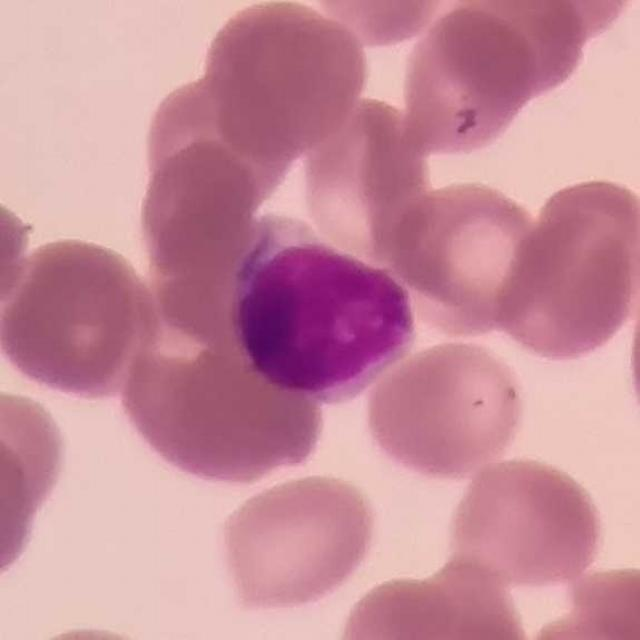Lymphocyte: (225, 208, 421, 401)
RBC: (116, 293, 333, 491), (493, 170, 640, 366), (198, 0, 373, 157), (386, 174, 552, 337), (0, 231, 155, 402), (210, 468, 383, 616), (360, 334, 532, 482), (294, 88, 437, 255), (440, 451, 610, 589), (395, 2, 538, 163), (143, 76, 296, 205), (131, 136, 265, 282), (425, 0, 597, 109), (0, 378, 75, 549), (331, 570, 473, 640), (527, 565, 640, 639), (294, 0, 456, 47), (477, 0, 639, 46), (0, 413, 39, 597), (0, 184, 38, 328), (620, 243, 640, 453), (520, 606, 640, 640), (29, 617, 161, 640)
